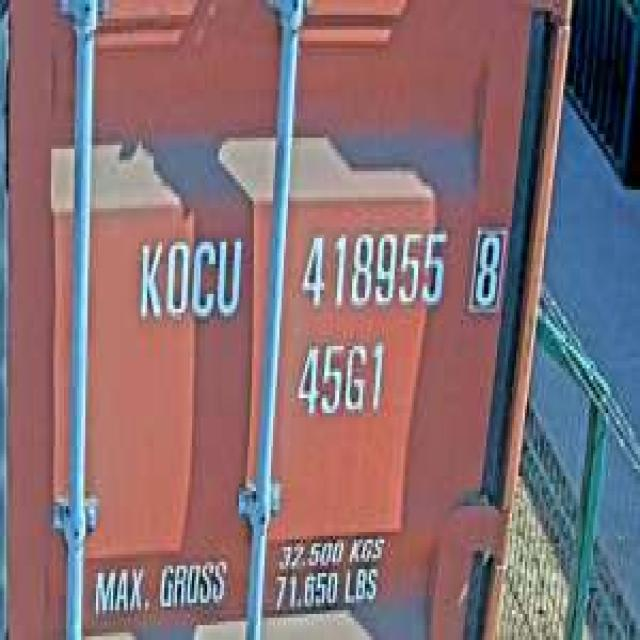dv: (465, 216, 508, 320)
owner: (134, 227, 246, 331)
serial: (295, 220, 450, 316)
size: (292, 331, 386, 421)
